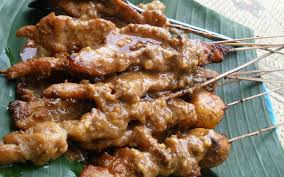sate: (1, 2, 236, 177)
